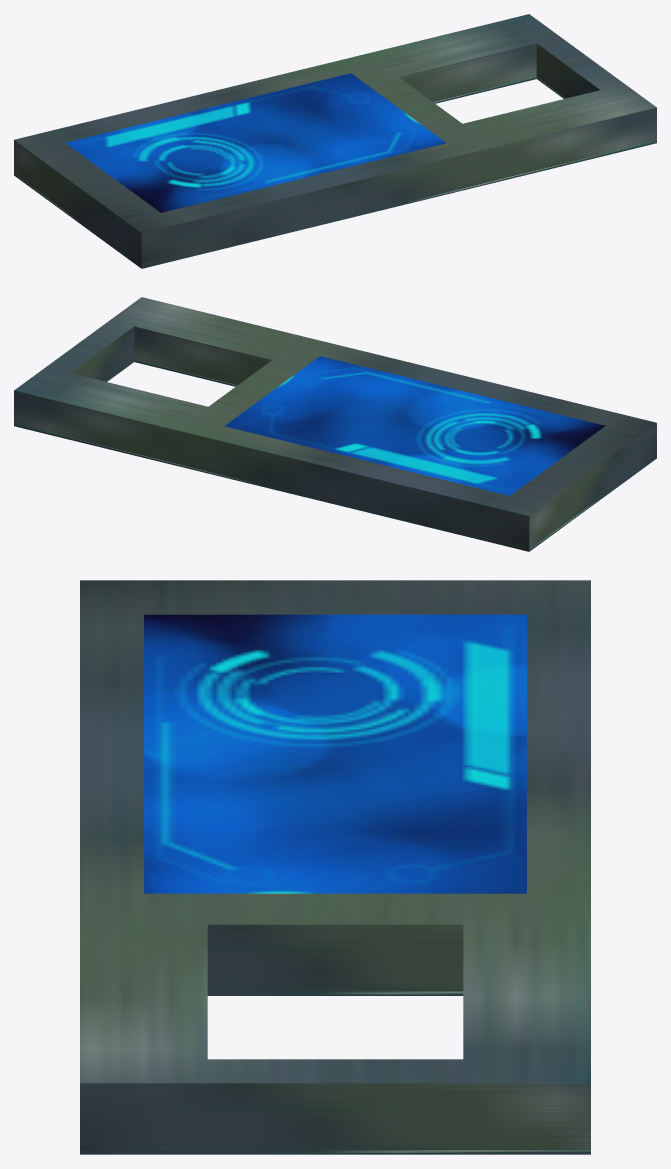
The model's file is tablet.fbx.
3 views of the same model, one above another, from view 1: azimuth 30°, elevation 25°; view 2: azimuth 150°, elevation 25°; view 3: azimuth 270°, elevation 25° (orthographic). The views are drawn at different scales.
Parts seen in each view (by area): view 1: Cube.169; view 2: Cube.169; view 3: Cube.169.
Boxes of the visible parts, x1,y1,x2,y2 form: Cube.169: [14, 14, 656, 268]; Cube.169: [14, 297, 656, 551]; Cube.169: [80, 580, 590, 1154].
Bounding box in the file's own units: 4.66 × 0.3083 × 2.
